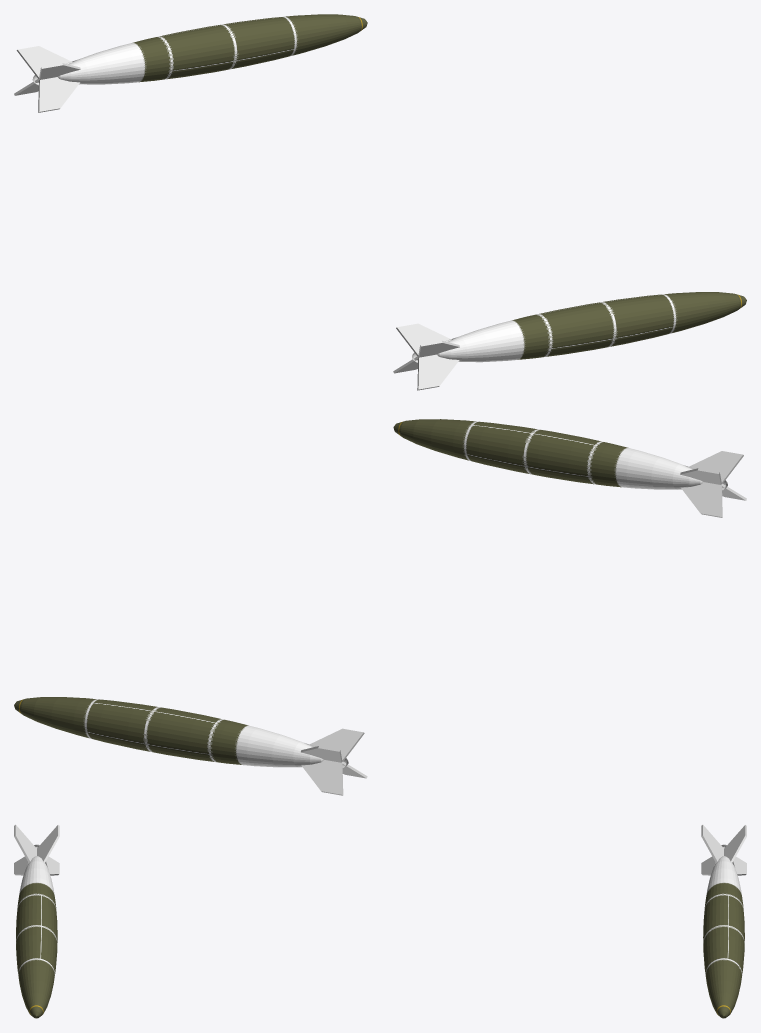
The model's file is f35bgbu3123.glb.
The picture shows the model from 3 angles, top to bottom: view 1: azimuth 30°, elevation 25°; view 2: azimuth 150°, elevation 25°; view 3: azimuth 270°, elevation 25°; orthographic projection. The views are drawn at different scales.
Visible parts, largest first — view 1: 立方体.008, 立方体.007; view 2: 立方体.007, 立方体.008; view 3: 立方体.008, 立方体.007.
Part boxes in pixels (box(x1,y1,x2,y2)): 立方体.008: box(14, 14, 367, 112); 立方体.007: box(393, 292, 746, 390); 立方体.007: box(393, 419, 746, 517); 立方体.008: box(14, 697, 367, 795); 立方体.008: box(701, 825, 746, 1018); 立方体.007: box(14, 824, 59, 1018).
Size of the model in its own units: 3.81 by 0.6325 by 7.83.
Materials: 1 (1 with a texture image).
